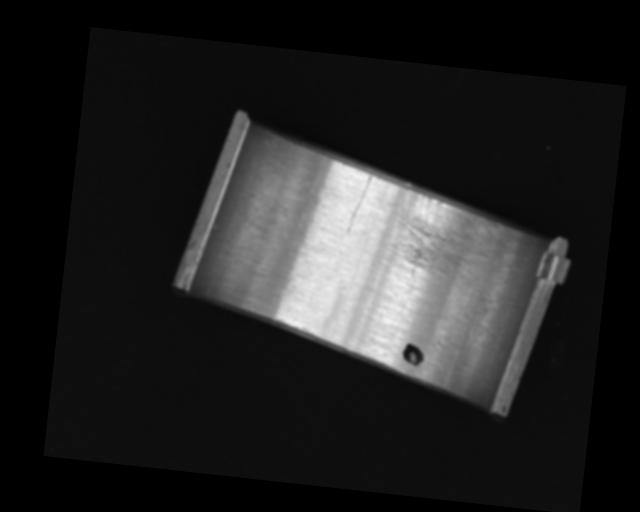blot: (400, 342, 426, 367)
nick: (204, 209, 259, 303), (344, 173, 371, 237)
scratch: (389, 184, 506, 284)
